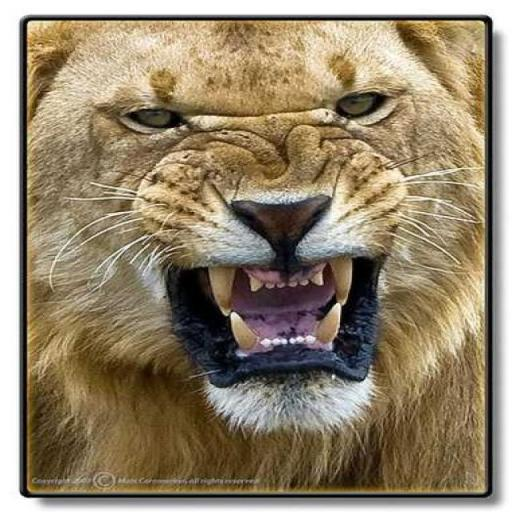Lion: (26, 18, 486, 492)
